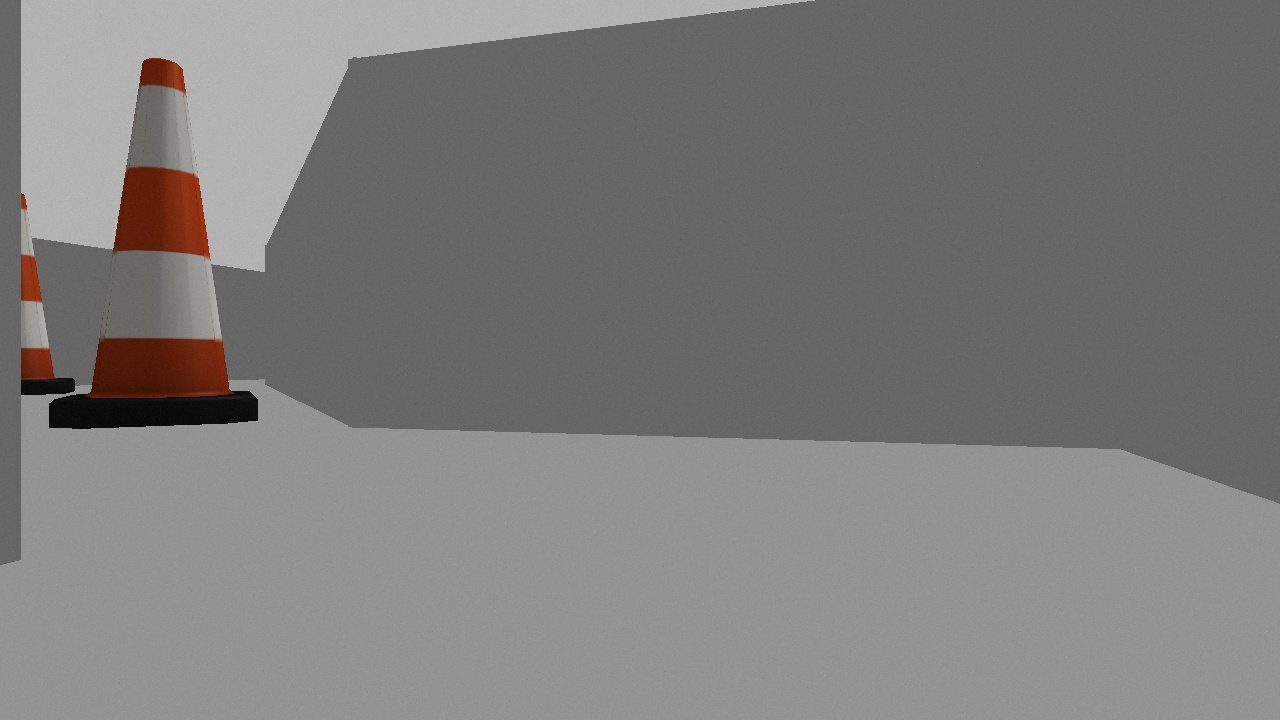barricade: (48, 52, 258, 428), (21, 183, 76, 394)
